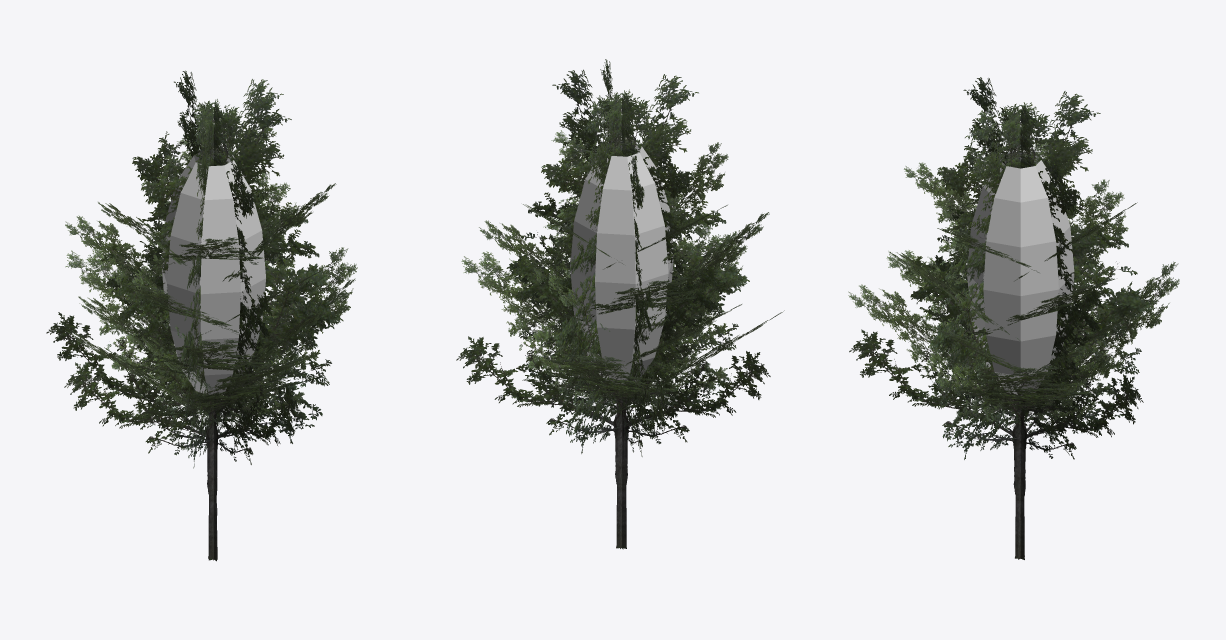
The model's file is Tree_03_WithBlob.fbx.
The picture shows the model from 3 angles, left to right: view 1: azimuth 30°, elevation 25°; view 2: azimuth 150°, elevation 25°; view 3: azimuth 270°, elevation 25°; orthographic projection.
Visible parts, largest first — view 1: Tree_03; view 2: Tree_03; view 3: Tree_03.
Part boxes in pixels (x1,y1,x2,y2): Tree_03: (46, 70, 357, 561); Tree_03: (456, 59, 784, 549); Tree_03: (848, 77, 1179, 559).
Size of the model in its own units: 950 by 1420 by 1016.
